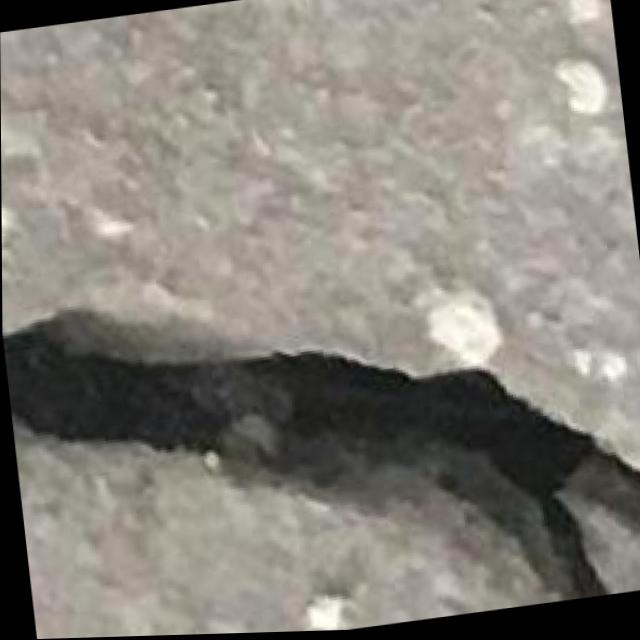Crack: (1, 219, 640, 640)
